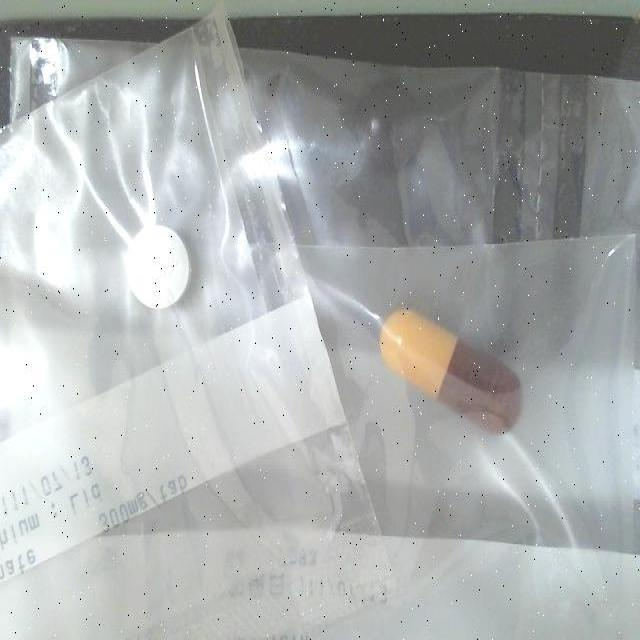pill: (372, 305, 524, 440), (125, 226, 194, 306)
